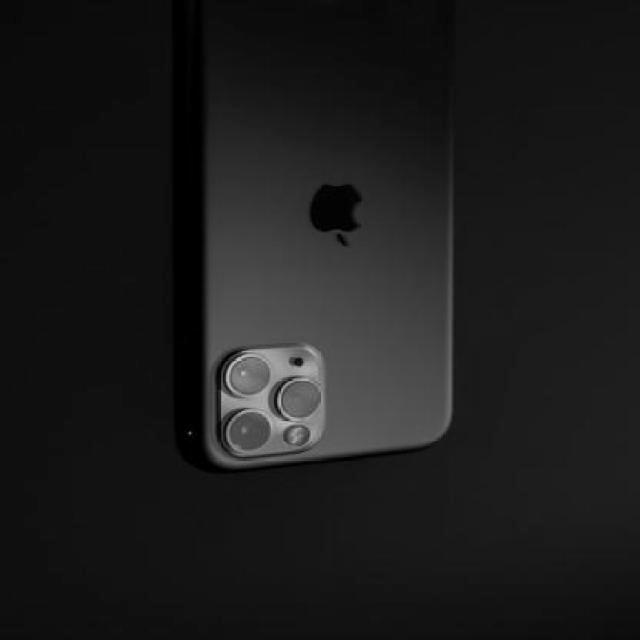fake: (190, 2, 456, 480)
